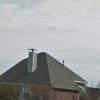Chimney: (24, 44, 41, 75)
